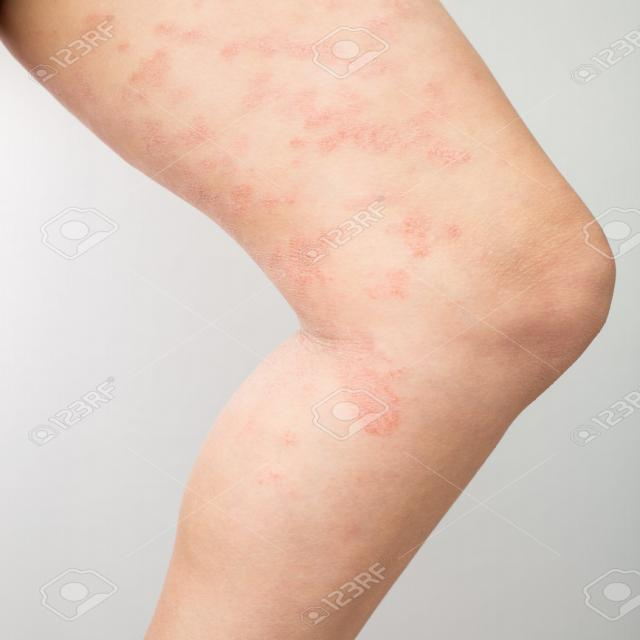eczema: (182, 31, 386, 213)
